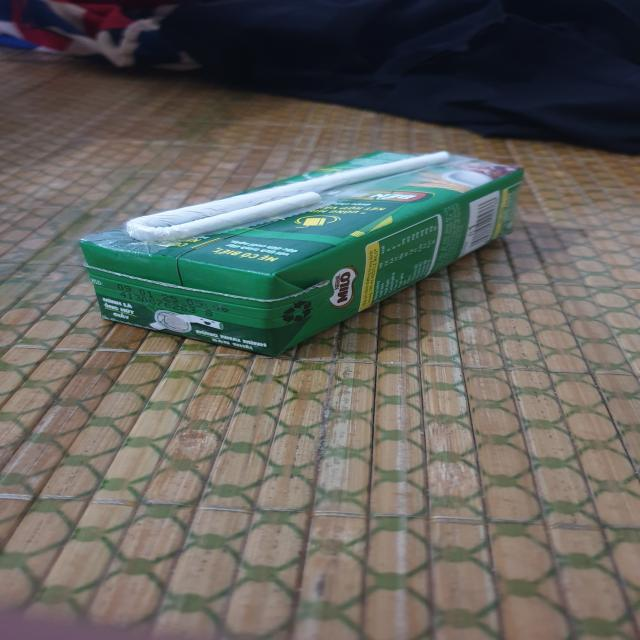Milo: (80, 153, 523, 355)
